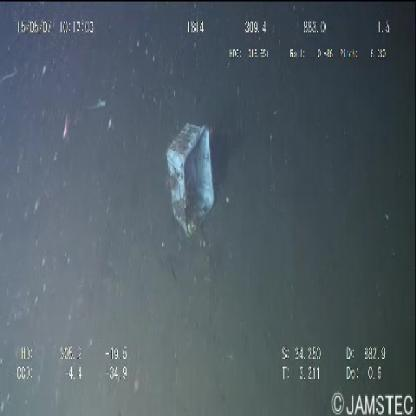Rác: (167, 123, 215, 239)
